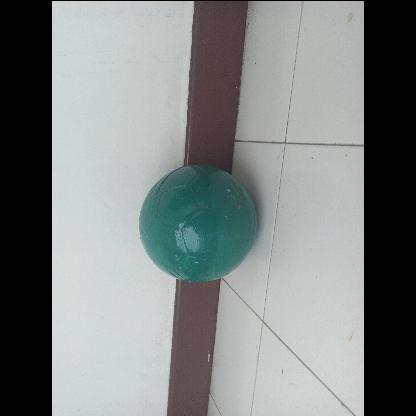green_ball: (138, 161, 258, 281)
